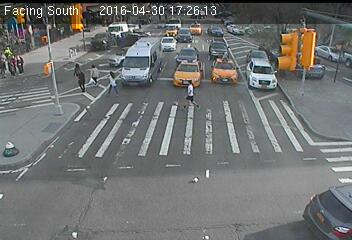neg: (287, 36, 312, 70), (194, 158, 216, 187), (2, 137, 24, 165), (33, 132, 53, 158), (296, 86, 315, 111), (37, 49, 56, 74), (259, 63, 277, 88), (198, 19, 216, 44), (328, 120, 345, 142), (328, 78, 345, 100), (43, 102, 58, 121), (66, 34, 79, 51), (127, 7, 139, 22)
pos: (177, 79, 201, 112), (103, 68, 123, 96), (6, 54, 23, 76), (12, 53, 28, 73), (86, 62, 101, 82), (71, 62, 86, 82), (77, 71, 90, 88)
